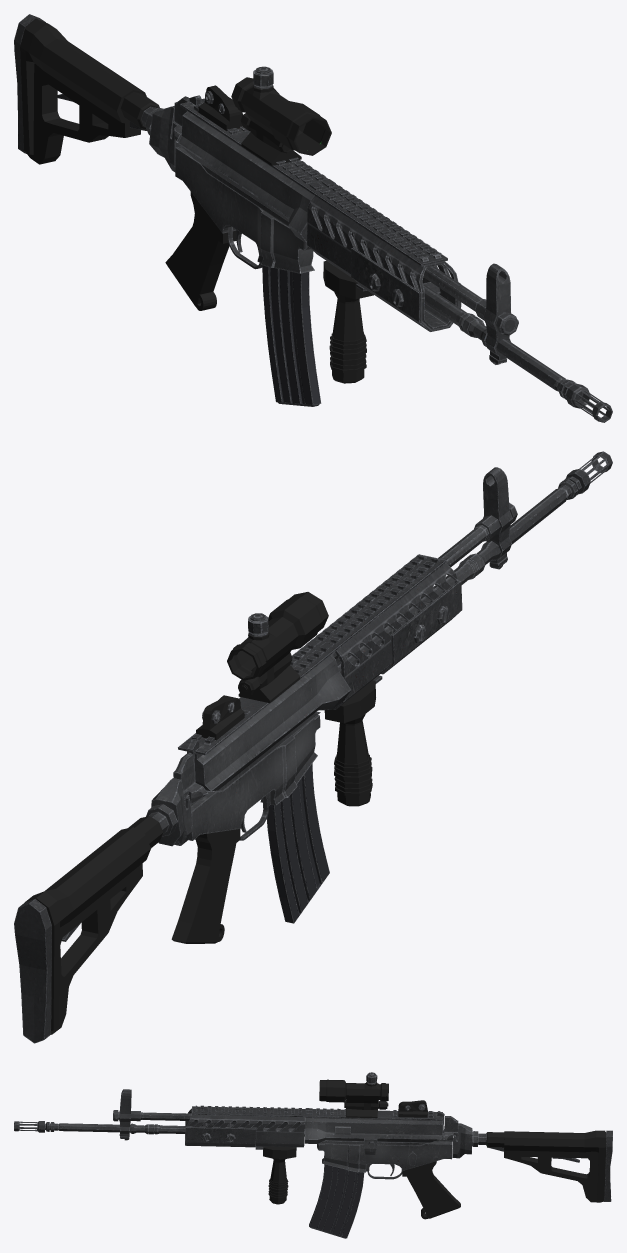
3 views of the same model, one above another, from view 1: azimuth 30°, elevation 25°; view 2: azimuth 150°, elevation 25°; view 3: azimuth 270°, elevation 25° (orthographic). The views are drawn at different scales.
Parts seen in each view (by area): view 1: Cylinder.011, Cube.012, Cylinder, Cylinder.004, Cube.002, Cube.014, Cube.017, Cylinder.003, Cube.005, Cube.003, Cylinder.001, Cube.001 (+7 smaller); view 2: Cylinder.011, Cylinder, Cylinder.004, Cube.012, Cube.002, Cube.017, Cube.005, Cylinder.003, Cube.014, Cylinder.001, Cube.001, Cube.003 (+7 smaller); view 3: Cylinder.011, Cylinder, Cube.012, Cube.002, Cylinder.004, Cube.014, Cube.017, Cube.003, Cylinder.003, Cylinder.001, Cube.009, Cube.005 (+8 smaller).
Part boxes in pixels (x1=…): Cylinder.011: x1=14, y1=14, x2=163, y2=154; Cube.012: x1=262, y1=265, x2=321, y2=406; Cylinder: x1=178, y1=111, x2=341, y2=243; Cylinder.004: x1=231, y1=66, x2=331, y2=165; Cube.002: x1=175, y1=146, x2=314, y2=273; Cube.014: x1=26, y1=63, x2=140, y2=164; Cube.017: x1=165, y1=192, x2=236, y2=310; Cylinder.003: x1=321, y1=221, x2=612, y2=422; Cube.005: x1=323, y1=261, x2=373, y2=383; Cube.003: x1=307, y1=195, x2=458, y2=330; Cylinder.001: x1=180, y1=98, x2=447, y2=266; Cube.001: x1=193, y1=104, x2=441, y2=261; Cylinder.011: x1=14, y1=804, x2=177, y2=1043; Cylinder: x1=187, y1=655, x2=350, y2=791; Cylinder.004: x1=227, y1=592, x2=328, y2=703; Cube.012: x1=266, y1=763, x2=329, y2=923; Cube.002: x1=188, y1=715, x2=320, y2=840; Cube.017: x1=171, y1=829, x2=240, y2=943; Cube.005: x1=324, y1=680, x2=375, y2=806; Cylinder.003: x1=337, y1=451, x2=612, y2=673; Cube.014: x1=51, y1=863, x2=142, y2=1034; Cylinder.001: x1=178, y1=554, x2=446, y2=755; Cube.001: x1=191, y1=554, x2=439, y2=745; Cube.003: x1=333, y1=563, x2=450, y2=709; Cylinder.011: x1=472, y1=1130, x2=612, y2=1201; Cylinder: x1=304, y1=1117, x2=442, y2=1143; Cube.012: x1=309, y1=1164, x2=364, y2=1238; Cube.002: x1=317, y1=1141, x2=452, y2=1172; Cylinder.004: x1=319, y1=1072, x2=388, y2=1118; Cube.014: x1=504, y1=1150, x2=604, y2=1202; Cube.017: x1=402, y1=1161, x2=460, y2=1219; Cube.003: x1=185, y1=1108, x2=304, y2=1149; Cylinder.003: x1=14, y1=1121, x2=304, y2=1136; Cylinder.001: x1=192, y1=1106, x2=442, y2=1120; Cube.009: x1=185, y1=1127, x2=256, y2=1147; Cube.005: x1=263, y1=1146, x2=296, y2=1204.
Bounding box in the file's own units: 6.82 × 39.69 × 130.
Materials: 1 (1 with a texture image).
